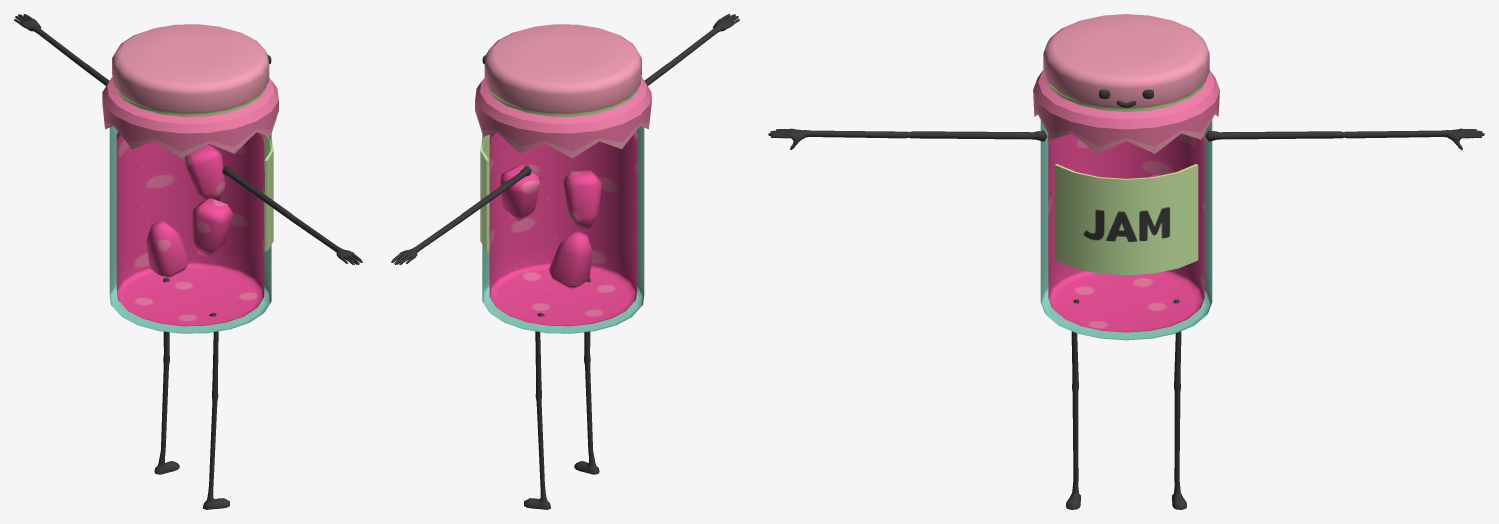
The model's file is Jam Character.glb.
3 renders of one model, left to right at view 1: azimuth 30°, elevation 25°; view 2: azimuth 150°, elevation 25°; view 3: azimuth 270°, elevation 25°, orthographic. The views are drawn at different scales.
Visible parts, largest first — view 1: _100Avatars_127_CoolJam; view 2: _100Avatars_127_CoolJam; view 3: _100Avatars_127_CoolJam.
Boxes of the visible parts, x1=… form: _100Avatars_127_CoolJam: x1=14, y1=14, x2=362, y2=509; _100Avatars_127_CoolJam: x1=391, y1=14, x2=739, y2=509; _100Avatars_127_CoolJam: x1=768, y1=14, x2=1484, y2=509.
Bounding box in the file's own units: 1.73 × 4.68 × 6.62.
Materials: 1 (1 with a texture image).
